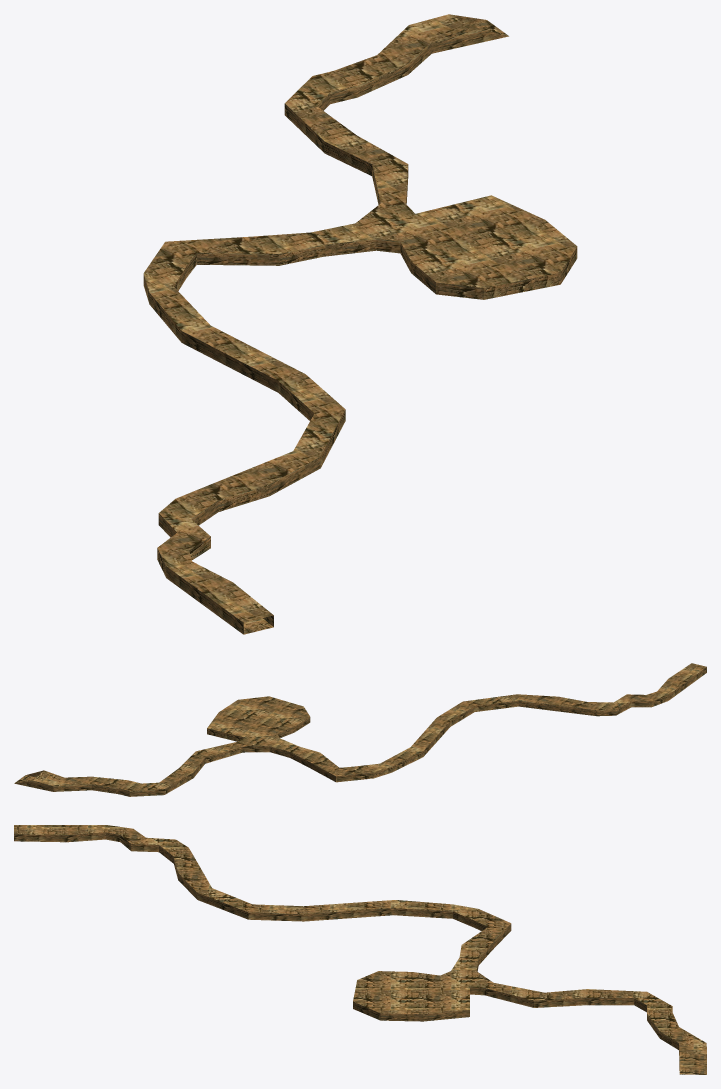
File: ecommons-tunnel.fbx
3 renders of one model, top to bottom at view 1: azimuth 30°, elevation 25°; view 2: azimuth 150°, elevation 25°; view 3: azimuth 270°, elevation 25°, orthographic. The views are drawn at different scales.
Visible parts, largest first — view 1: ECTunnelRoof, ECTunnelWalls; view 2: ECTunnelRoof, ECTunnelWalls; view 3: ECTunnelRoof, ECTunnelWalls, ECTunnelFloor.
Boxes of the visible parts, <box> form: ECTunnelRoof: <box>143,14,577,622</box>; ECTunnelWalls: <box>143,14,577,634</box>; ECTunnelRoof: <box>33,663,706,790</box>; ECTunnelWalls: <box>15,667,706,796</box>; ECTunnelRoof: <box>14,825,706,1054</box>; ECTunnelWalls: <box>14,832,706,1070</box>; ECTunnelFloor: <box>679,1052,706,1074</box>.
Size of the model in its own units: 2138 by 47.94 by 2596.
